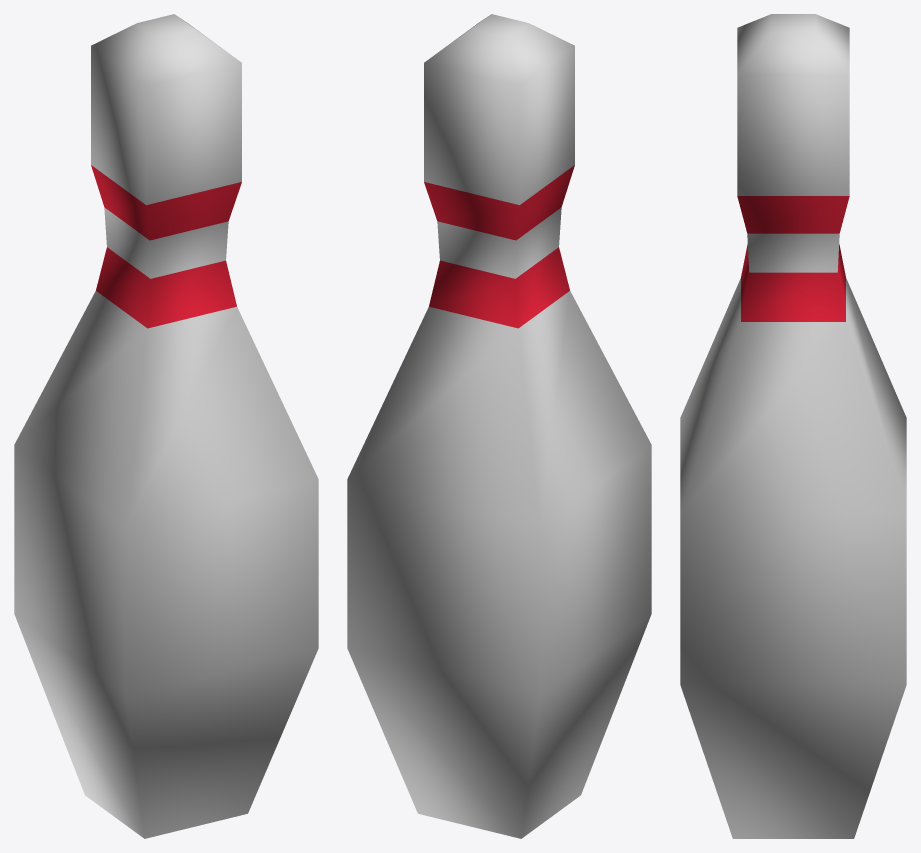
Rendered from Pin.glb.
3 views of the same model, side by side, from view 1: azimuth 30°, elevation 25°; view 2: azimuth 150°, elevation 25°; view 3: azimuth 270°, elevation 25° (orthographic).
Visible parts, largest first — view 1: RPIN_A; view 2: RPIN_A; view 3: RPIN_A.
Part boxes in pixels (bbox=[...]): RPIN_A: bbox=[14, 14, 318, 838]; RPIN_A: bbox=[347, 14, 651, 838]; RPIN_A: bbox=[680, 14, 906, 838].
Bounding box in the file's own units: 0.159 × 0.612 × 0.159.
